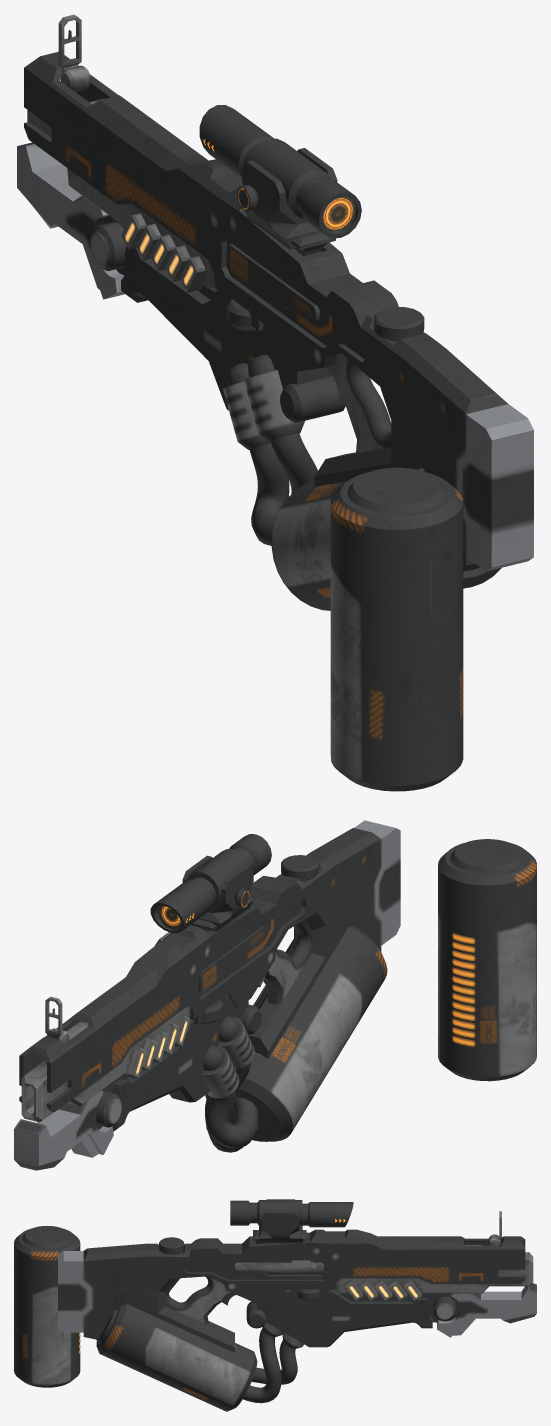
Rendered from drum_gun.glb.
3 renders of one model, top to bottom at view 1: azimuth 30°, elevation 25°; view 2: azimuth 150°, elevation 25°; view 3: azimuth 270°, elevation 25°, orthographic. The views are drawn at different scales.
Visible parts, largest first — view 1: Cube.012_MainBody_0; view 2: Cube.012_MainBody_0; view 3: Cube.012_MainBody_0.
Boxes of the visible parts, bbox=[...] form: Cube.012_MainBody_0: bbox=[17, 14, 533, 791]; Cube.012_MainBody_0: bbox=[14, 820, 536, 1170]; Cube.012_MainBody_0: bbox=[14, 1199, 536, 1411].
Bounding box in the file's own units: 0.2972 × 0.4873 × 1.12.
Materials: 4 (4 with a texture image).
